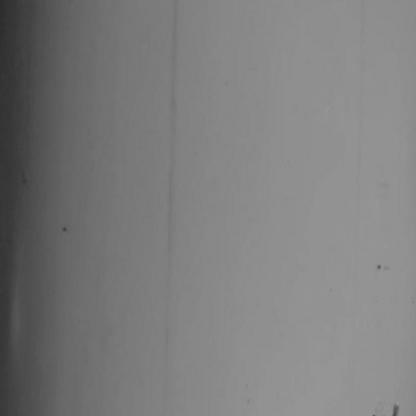kongdong: (369, 403, 409, 416)
